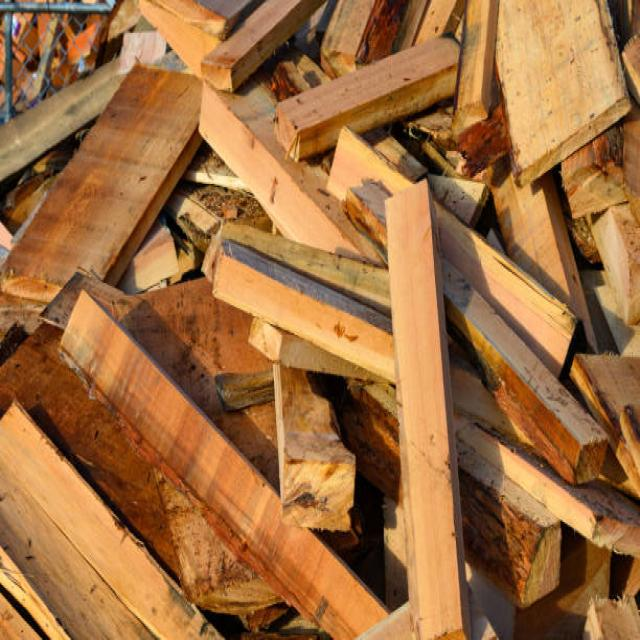cardboard: (24, 41, 611, 583)
